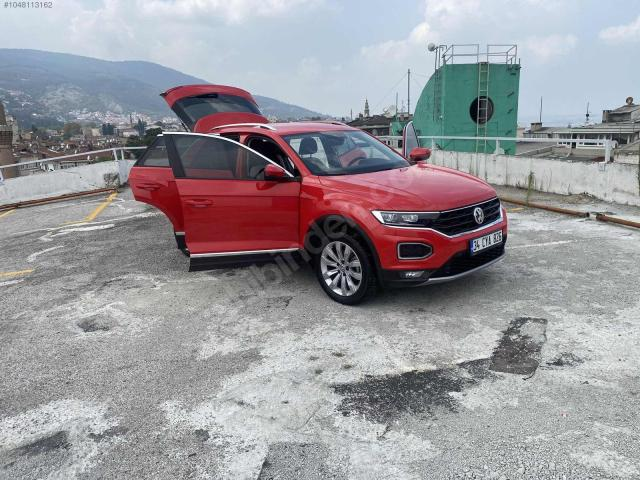plaka: (470, 230, 502, 253)
